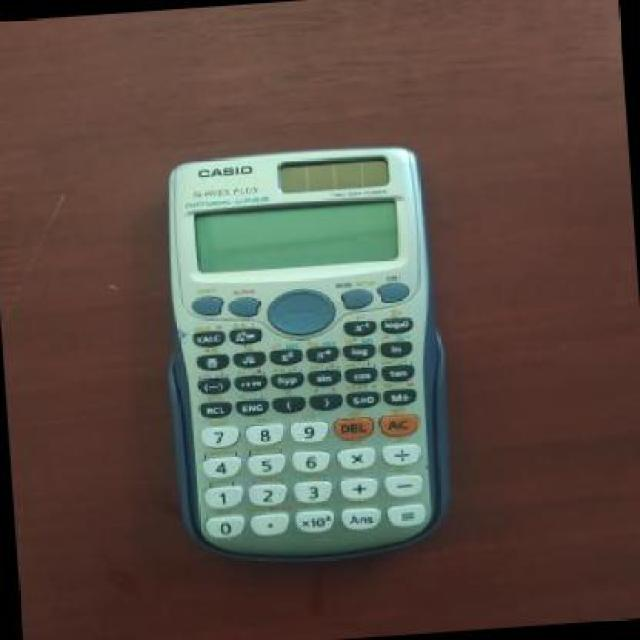Calculator: (139, 131, 467, 577)
